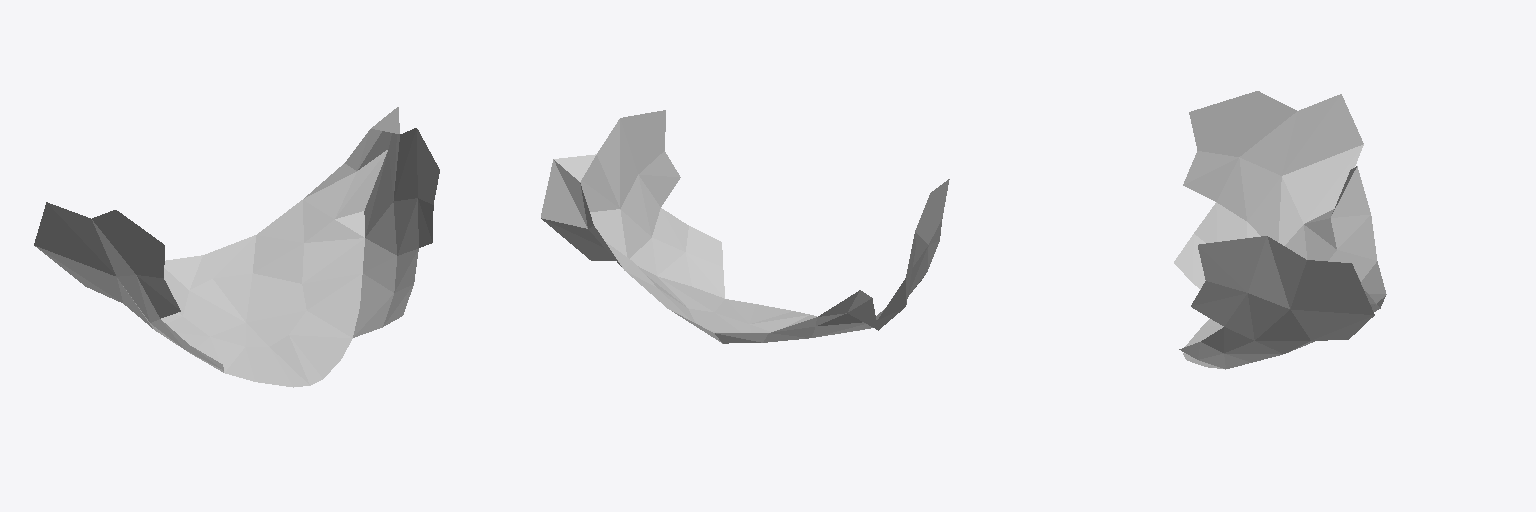
Rendered from ears.obj.
The picture shows the model from 3 angles: view 1: azimuth 30°, elevation 25°; view 2: azimuth 150°, elevation 25°; view 3: azimuth 270°, elevation 25°; orthographic projection.
Visible parts, largest first — view 1: model459.002; view 2: model459.002; view 3: model459.002.
Part boxes in pixels (x1,y1,x2,y2): model459.002: (34, 107, 439, 387); model459.002: (541, 110, 949, 343); model459.002: (1174, 91, 1386, 369).
Bounding box in the file's own units: 3.35 × 1.7 × 1.72.